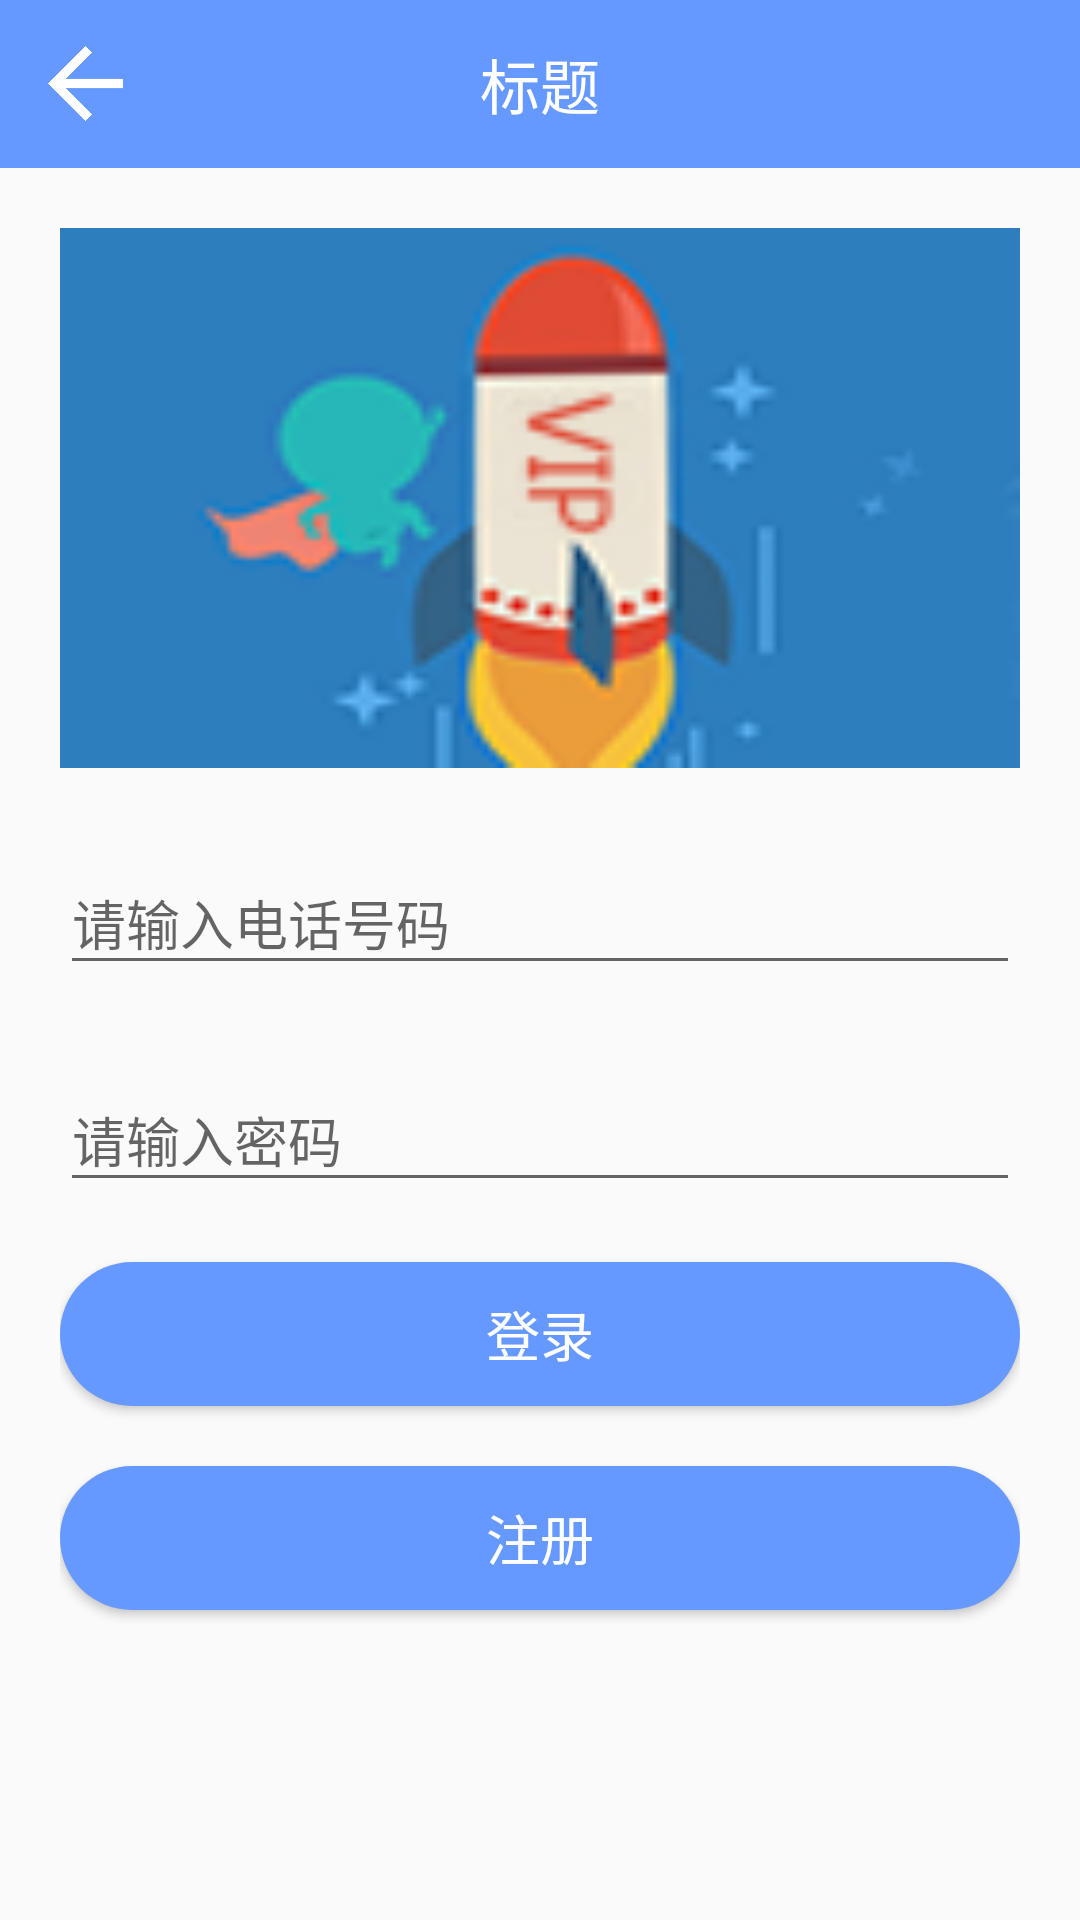

Where icons sit on this 1080×1920 app screen, as (x1, y1, x2, y2):
back: (48, 46, 123, 121)
